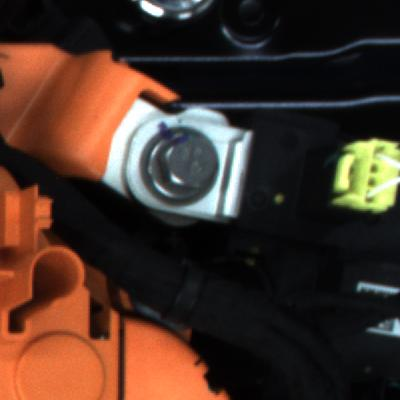nut_b: (137, 125, 234, 215)
